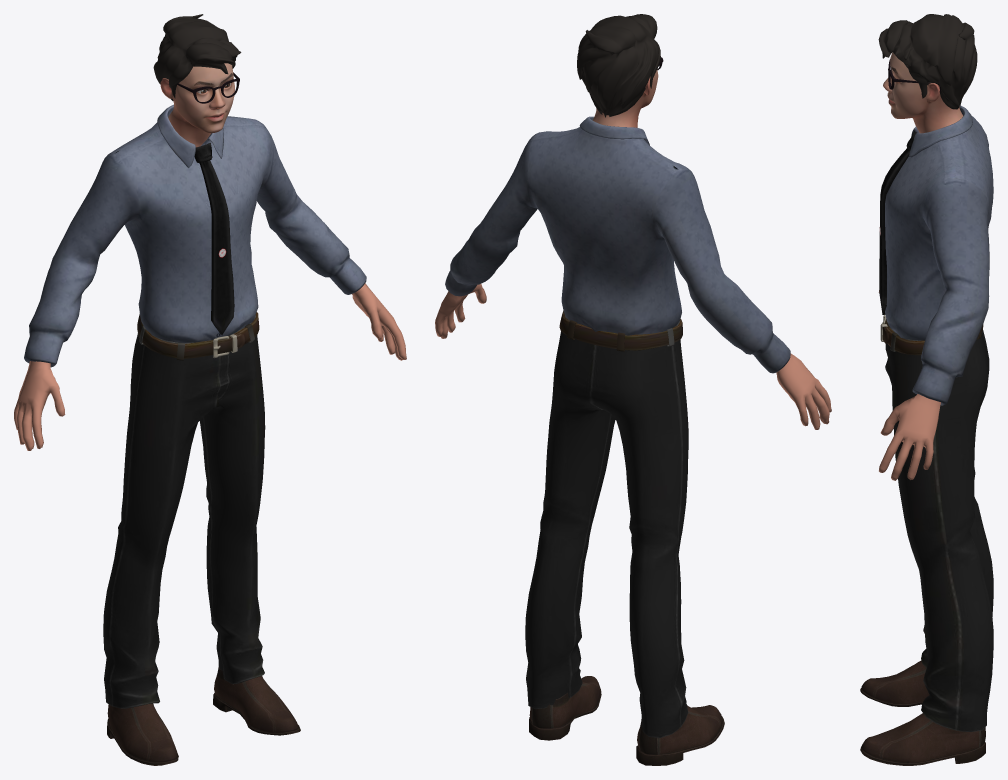
Rendered from Teacher4.glb.
The picture shows the model from 3 angles, left to right: view 1: azimuth 30°, elevation 25°; view 2: azimuth 150°, elevation 25°; view 3: azimuth 270°, elevation 25°; orthographic projection.
Parts seen in each view (by area): view 1: node_id803_86, node_id797_82, node_id800_84, node_id794_80, node_id806_88, node_id788_76; view 2: node_id797_82, node_id803_86, node_id806_88, node_id800_84, node_id794_80, node_id788_76; view 3: node_id797_82, node_id803_86, node_id800_84, node_id806_88, node_id794_80, node_id788_76.
Part boxes in pixels (x1,y1,x2,y2): node_id803_86: (24, 104, 366, 367); node_id797_82: (103, 312, 265, 708); node_id800_84: (107, 667, 300, 765); node_id794_80: (14, 283, 406, 450); node_id806_88: (153, 14, 241, 101); node_id788_76: (160, 63, 234, 147); node_id797_82: (525, 310, 688, 737); node_id803_86: (445, 116, 790, 373); node_id806_88: (577, 14, 660, 117); node_id800_84: (529, 676, 724, 765); node_id794_80: (435, 284, 831, 429); node_id788_76: (593, 69, 658, 127); node_id797_82: (880, 314, 993, 731); node_id803_86: (879, 105, 993, 405); node_id800_84: (860, 660, 985, 765); node_id806_88: (878, 14, 977, 109); node_id794_80: (878, 290, 940, 480); node_id788_76: (883, 52, 963, 133).
Bounding box in the file's own units: 0.2919 × 0.5182 × 0.0887.
Materials: 11 (11 with a texture image).
